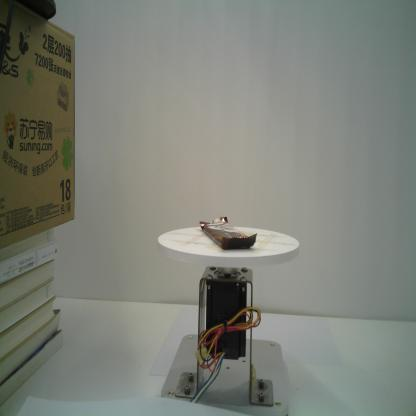Chocolate: (195, 216, 259, 251)
